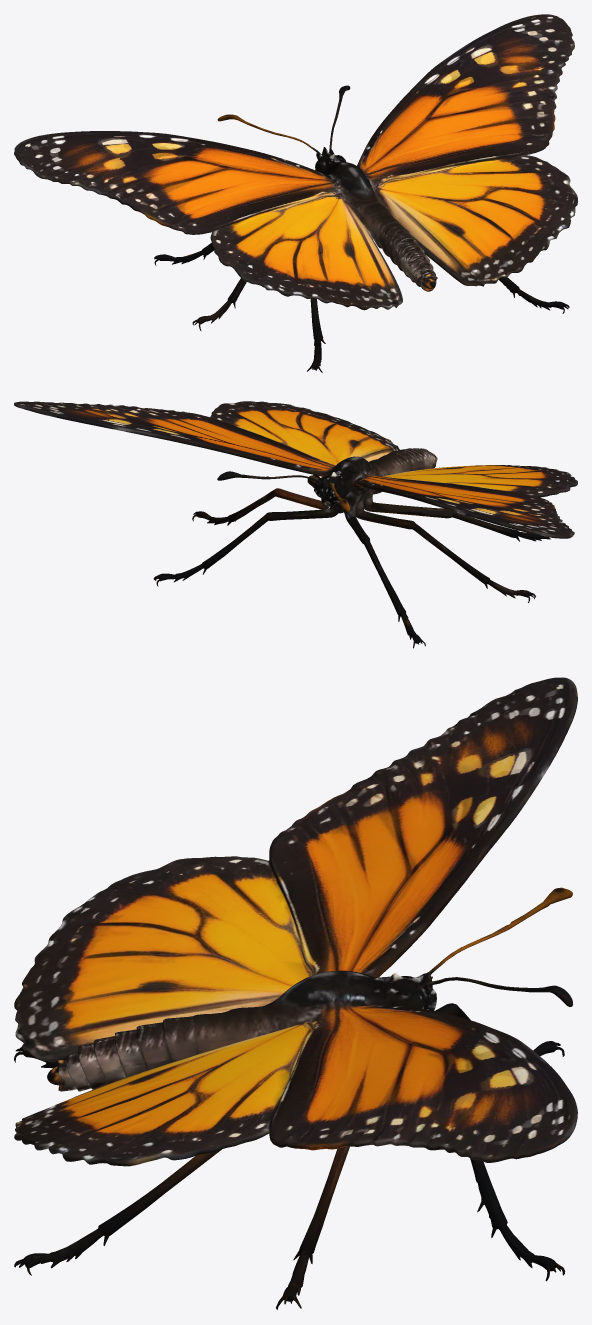
File: monarch-butterfly.glb
3 views of the same model, one above another, from view 1: azimuth 30°, elevation 25°; view 2: azimuth 150°, elevation 25°; view 3: azimuth 270°, elevation 25° (orthographic). The views are drawn at different scales.
Parts seen in each view (by area): view 1: node_0; view 2: node_0; view 3: node_0.
Part boxes in pixels (bbox=[...]): node_0: bbox=[14, 14, 577, 372]; node_0: bbox=[14, 401, 577, 648]; node_0: bbox=[14, 677, 577, 1309].
Size of the model in its own units: 1.06 by 0.2798 by 0.5399.
Materials: 1 (1 with a texture image).
